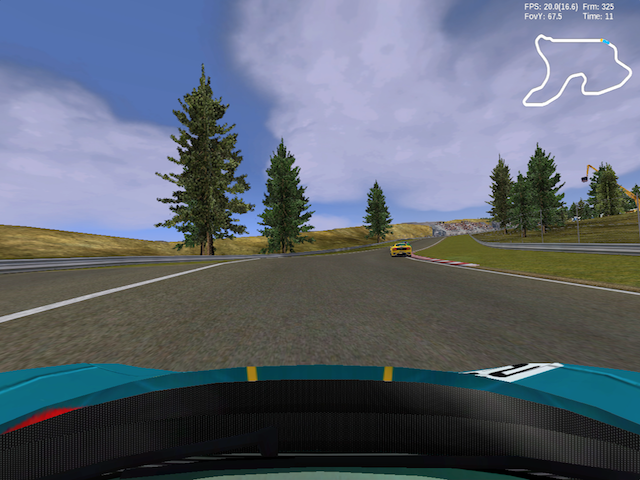Cavallo360: (389, 243, 414, 258)
